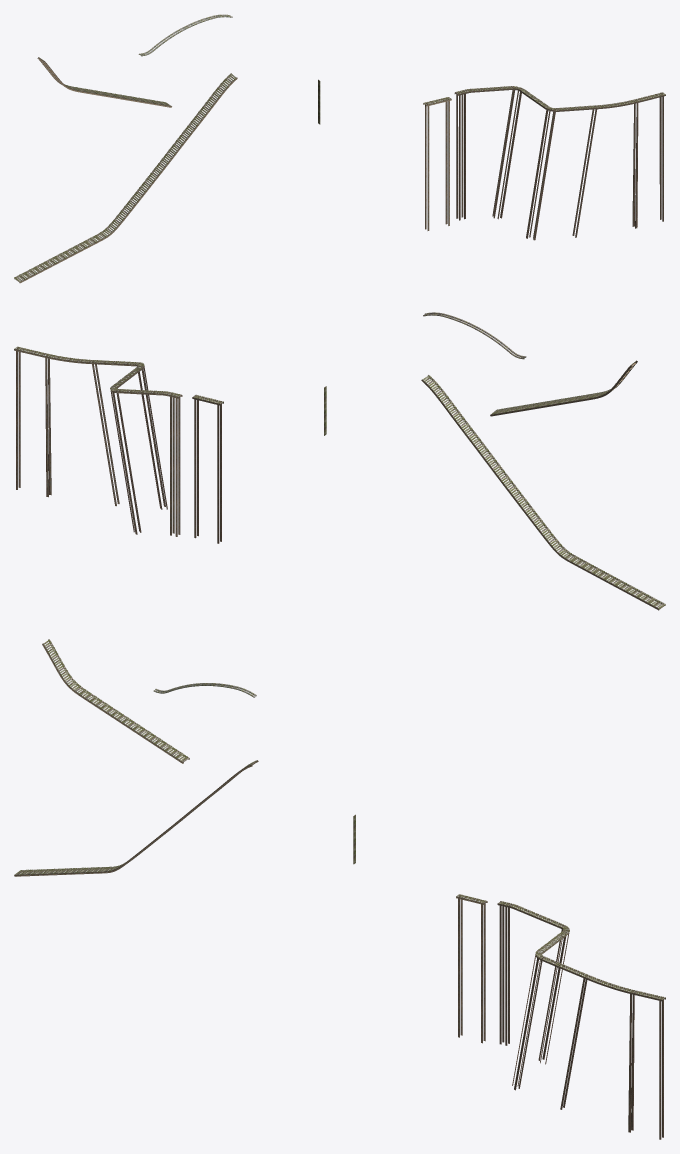
The model's file is boss 3.fbx.
3 views of the same model, one above another, from view 1: azimuth 30°, elevation 25°; view 2: azimuth 150°, elevation 25°; view 3: azimuth 330°, elevation 25° (orthographic). The views are drawn at different scales.
Parts seen in each view (by area): view 1: ramp.010, ramp.004, ramp.005, ramp.001; view 2: ramp.010, ramp.004, ramp.005, ramp.001, pipe.001; view 3: ramp.010, ramp.001, ramp.005, ramp.004.
Part boxes in pixels (<box>): ramp.010: <box>454,86,665,240</box>; ramp.004: <box>14,73,237,283</box>; ramp.005: <box>423,97,451,230</box>; ramp.001: <box>37,57,171,107</box>; ramp.010: <box>14,346,182,536</box>; ramp.004: <box>421,375,665,610</box>; ramp.005: <box>192,394,223,543</box>; ramp.001: <box>490,360,637,416</box>; pipe.001: <box>423,312,526,359</box>; ramp.010: <box>497,901,665,1139</box>; ramp.001: <box>42,639,189,763</box>; ramp.005: <box>456,894,487,1043</box>; ramp.004: <box>14,760,258,876</box>.
Size of the model in its own units: 11847 by 5188 by 1283.
